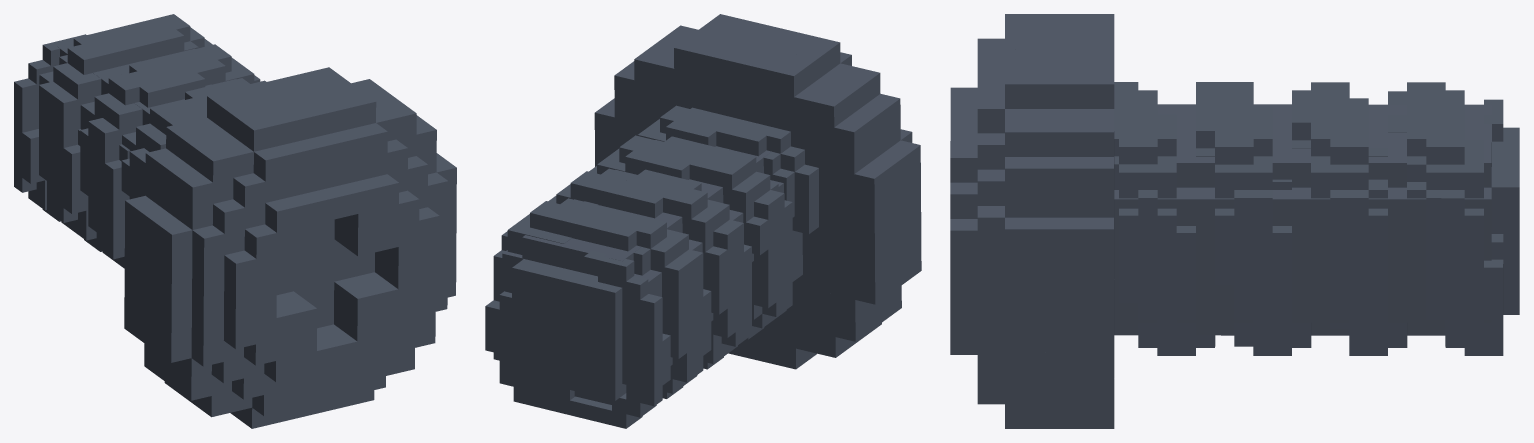
The model's file is Boss_part_core.fbx.
3 views of the same model, side by side, from view 1: azimuth 30°, elevation 25°; view 2: azimuth 150°, elevation 25°; view 3: azimuth 270°, elevation 25° (orthographic). The views are drawn at different scales.
Parts seen in each view (by area): view 1: Boss_part_core; view 2: Boss_part_core; view 3: Boss_part_core.
Boxes of the visible parts, left/top/right/bottom form: Boss_part_core: left=14, top=14, right=456, bottom=428; Boss_part_core: left=485, top=14, right=921, bottom=428; Boss_part_core: left=950, top=14, right=1519, bottom=428.
Bounding box in the file's own units: 235 × 235 × 349.
